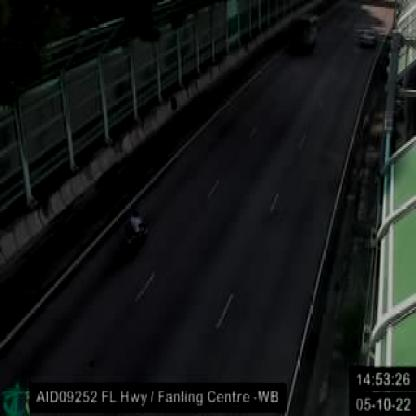Truck: (291, 12, 317, 57)
